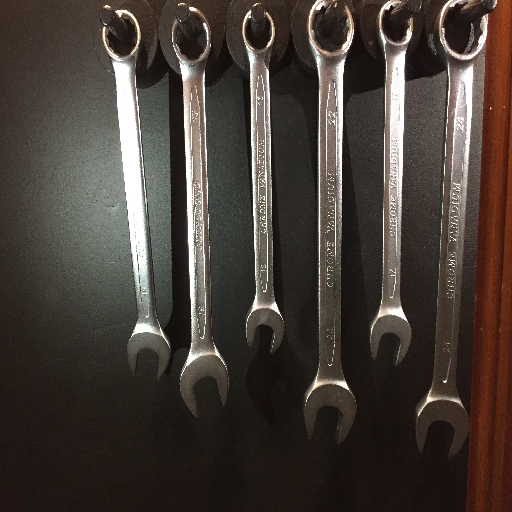bottom: (411, 387, 471, 463), (302, 373, 357, 447), (178, 344, 229, 417), (125, 320, 171, 384), (368, 305, 412, 368), (244, 300, 285, 358)
top: (430, 1, 493, 64), (306, 1, 359, 60), (169, 6, 214, 68), (99, 8, 144, 62), (376, 1, 420, 52), (239, 7, 277, 58)
